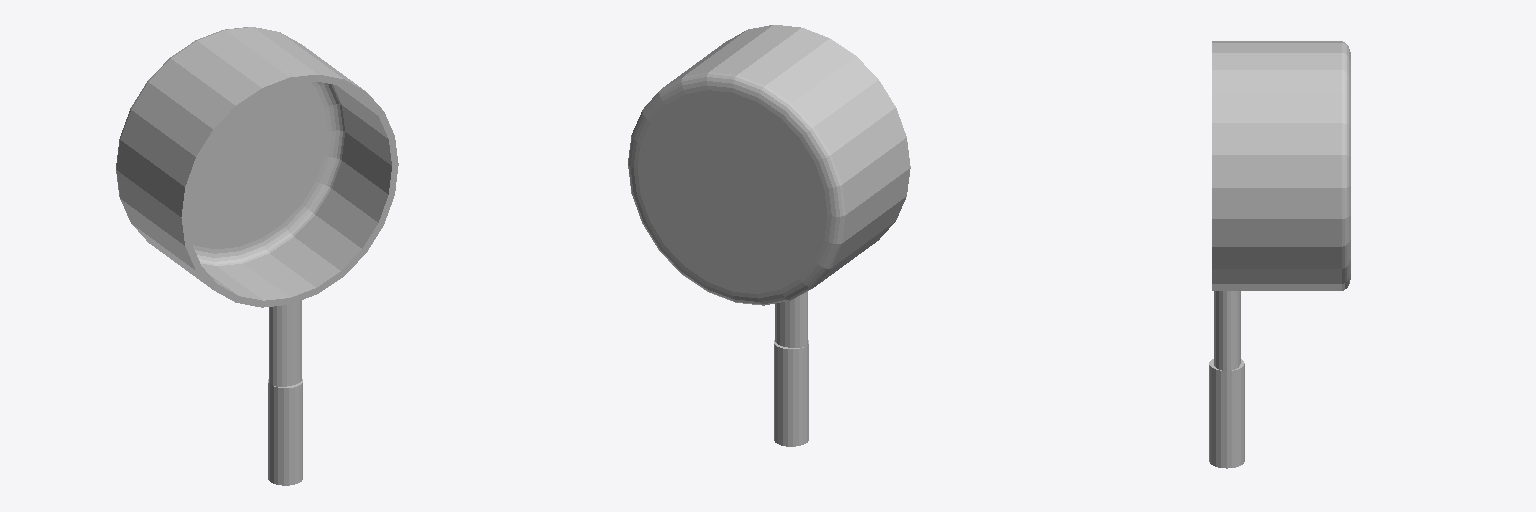
Rendered from pothead.obj.
3 views of the same model, side by side, from view 1: azimuth 30°, elevation 25°; view 2: azimuth 150°, elevation 25°; view 3: azimuth 270°, elevation 25° (orthographic).
Visible parts, largest first — view 1: obj_0; view 2: obj_0; view 3: obj_0.
Part boxes in pixels (x1,y1,x2,y2): obj_0: (116,27,398,485); obj_0: (628,25,910,446); obj_0: (1209,41,1350,468).
Size of the model in its own units: 73.9 by 132 by 41.86.